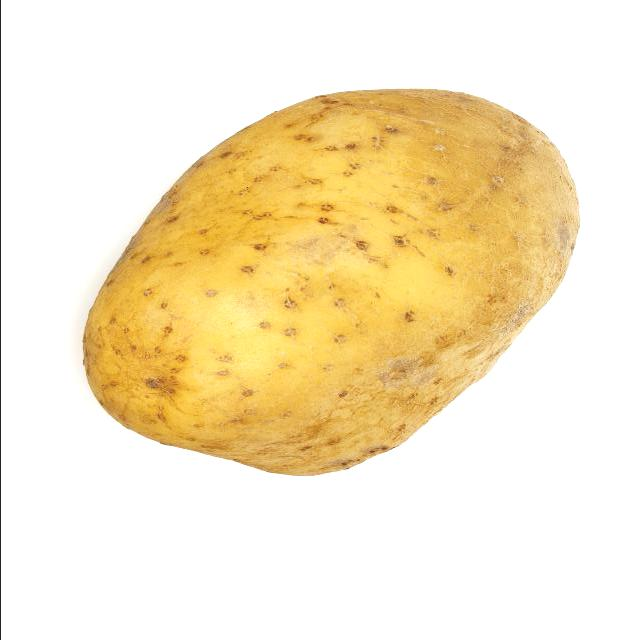potato: (47, 83, 602, 492)
